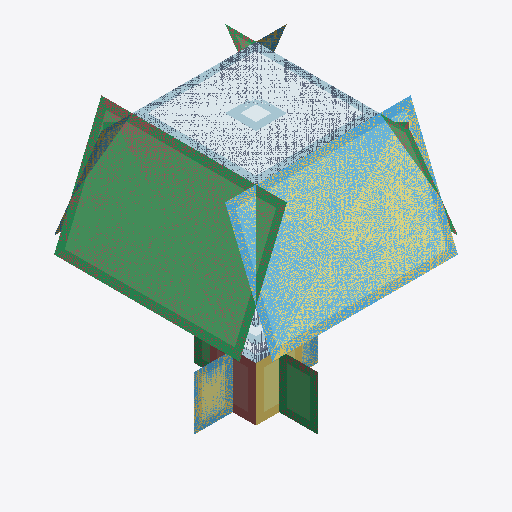
A Minecraft block model of 18 cuboids, rendered isometrically (azimuth 45°, elevation 35.3°) with the resource pack's own textures.
Visible parts, largest first — element 9, element 10, element 7, element 1, element 4, element 6, element 8, element 11, element 2.
Boxes of the visible parts, x1=… form: element 9: x1=54, y1=95, x2=286, y2=361; element 10: x1=225, y1=95, x2=457, y2=361; element 7: x1=133, y1=42, x2=378, y2=183; element 1: x1=210, y1=345, x2=301, y2=424; element 4: x1=279, y1=354, x2=317, y2=433; element 6: x1=194, y1=354, x2=232, y2=433; element 8: x1=55, y1=24, x2=286, y2=234; element 11: x1=225, y1=24, x2=456, y2=234; element 2: x1=226, y1=97, x2=285, y2=130.
Bounding box in the file's own units: 28.25 × 32 × 28.25.